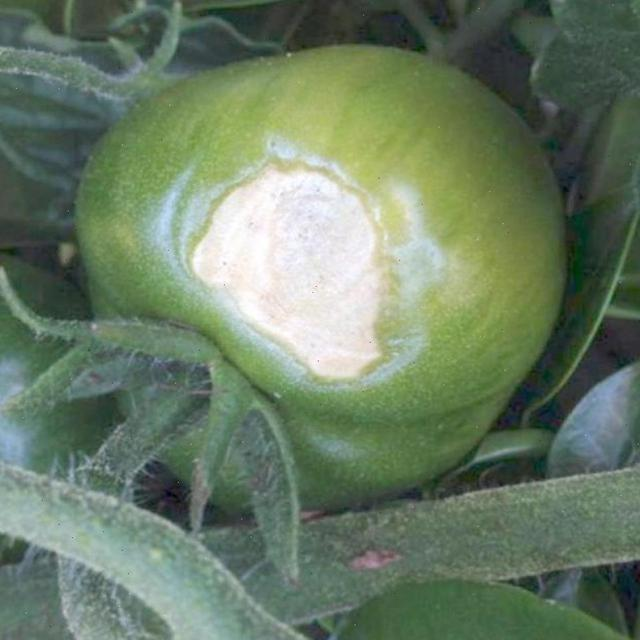Sunscald Fruit: (122, 99, 263, 258)
